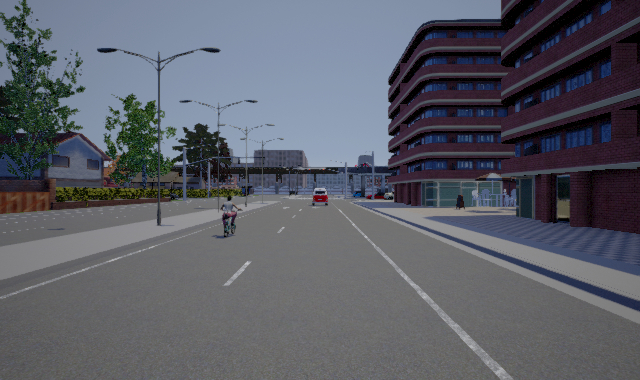bike: (219, 196, 242, 237)
vehicle: (312, 188, 328, 206)
